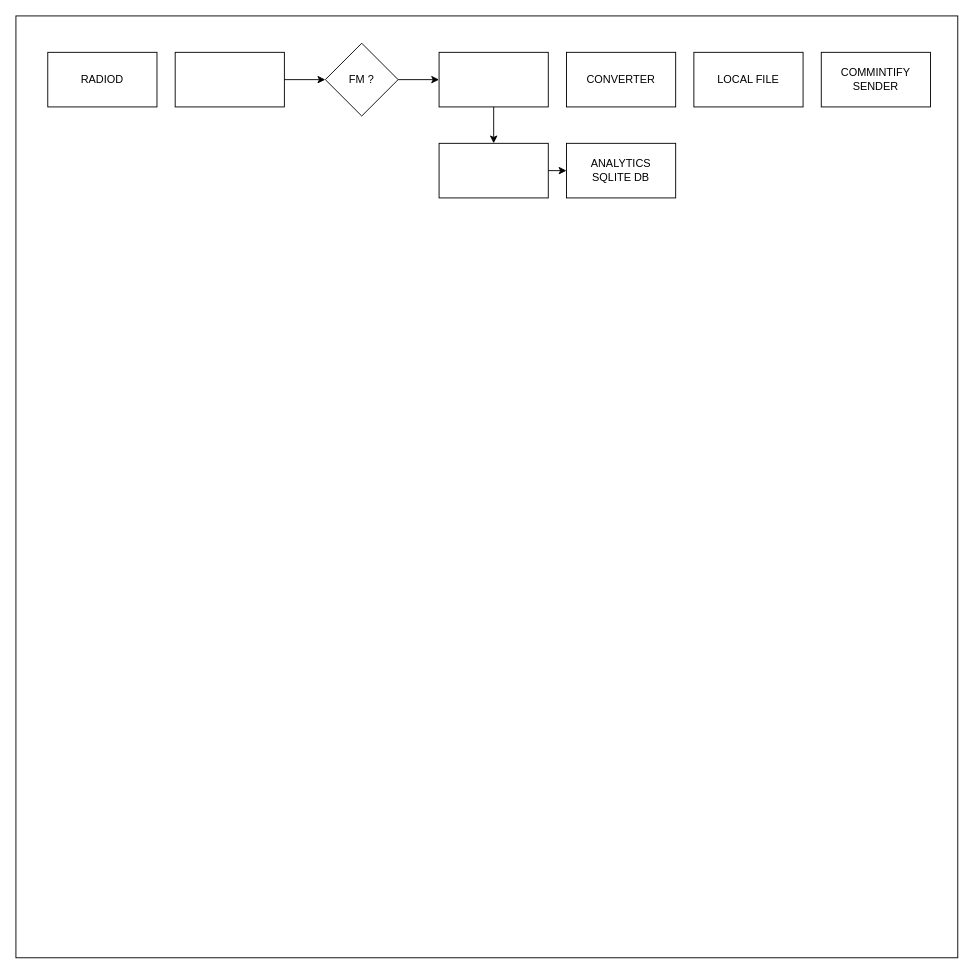
This 974x974 diagram has some shape labels left out. Each missing label, with the box of its shape:
ANALYTIC PARSER: (438, 142, 548, 198)
DSD-FME: (438, 51, 548, 107)
PCMCAT: (174, 51, 284, 107)
